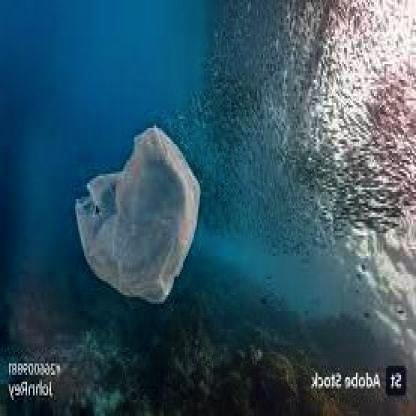pbag: (75, 124, 203, 307)
